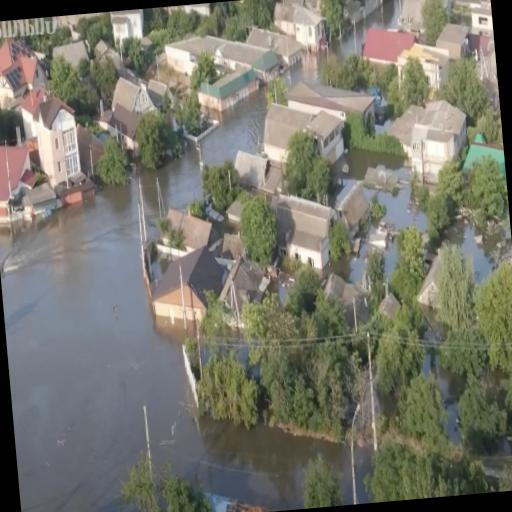flood: (0, 177, 352, 512), (200, 86, 267, 164), (423, 346, 466, 442), (444, 219, 494, 282), (158, 142, 201, 209), (366, 186, 427, 231), (333, 149, 412, 182), (324, 244, 369, 280), (356, 12, 382, 52), (290, 52, 322, 84), (424, 307, 447, 339), (143, 167, 156, 215), (337, 28, 355, 54), (385, 242, 397, 275), (384, 0, 399, 26)
house: (163, 28, 280, 94), (146, 248, 227, 336), (404, 96, 472, 182), (30, 96, 82, 206), (273, 190, 341, 274), (196, 66, 260, 117), (0, 141, 35, 231), (356, 23, 420, 69), (157, 200, 214, 251), (246, 24, 304, 72), (336, 178, 371, 242), (110, 73, 156, 117), (316, 110, 348, 173), (295, 4, 327, 59), (105, 104, 138, 148), (420, 48, 450, 91), (110, 9, 146, 41), (416, 276, 439, 308)
